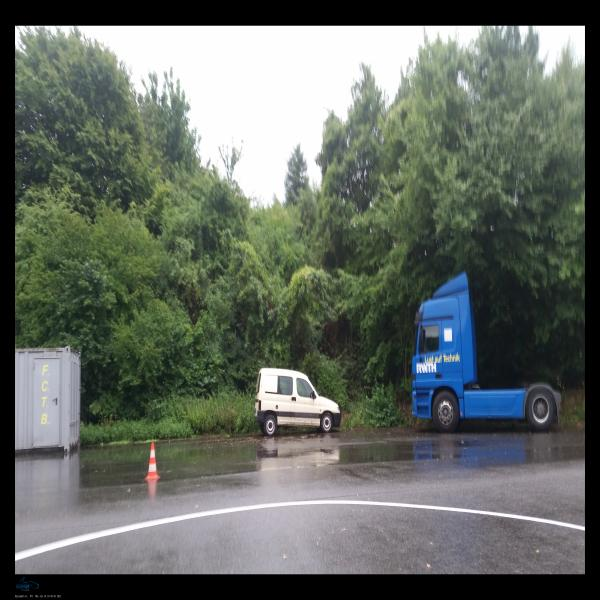large_orange_cone: (145, 444, 160, 480)
